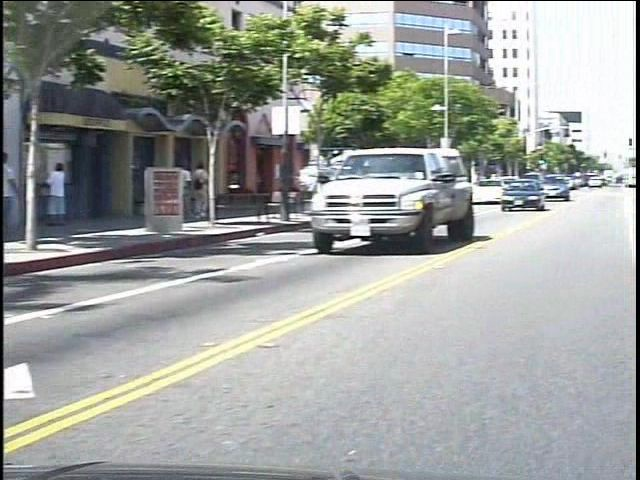person: (60, 159, 89, 234), (186, 159, 207, 224), (203, 163, 225, 225)
